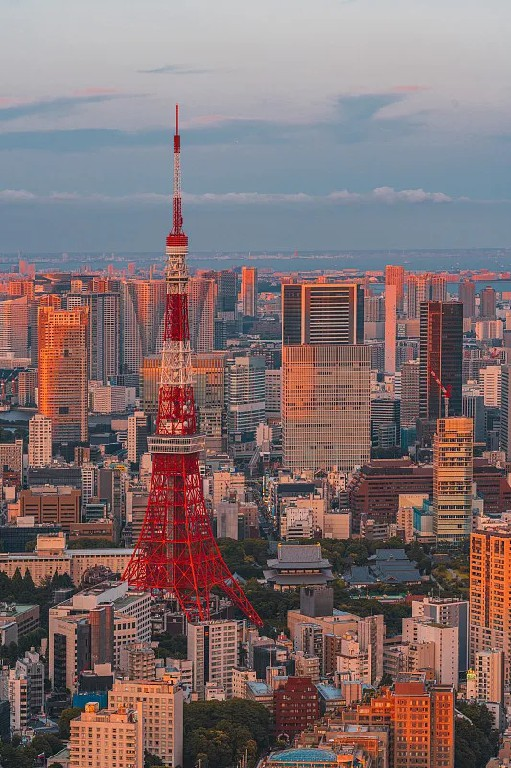Tokyo: (123, 104, 260, 627)
